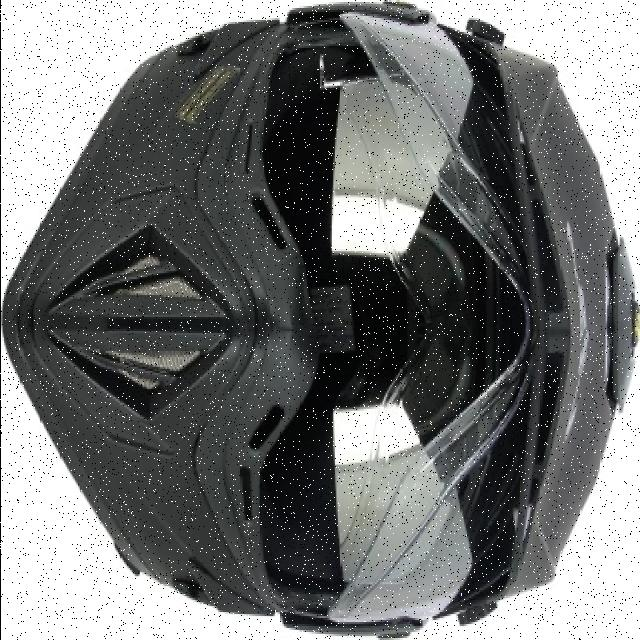Helmet: (3, 3, 640, 637)
